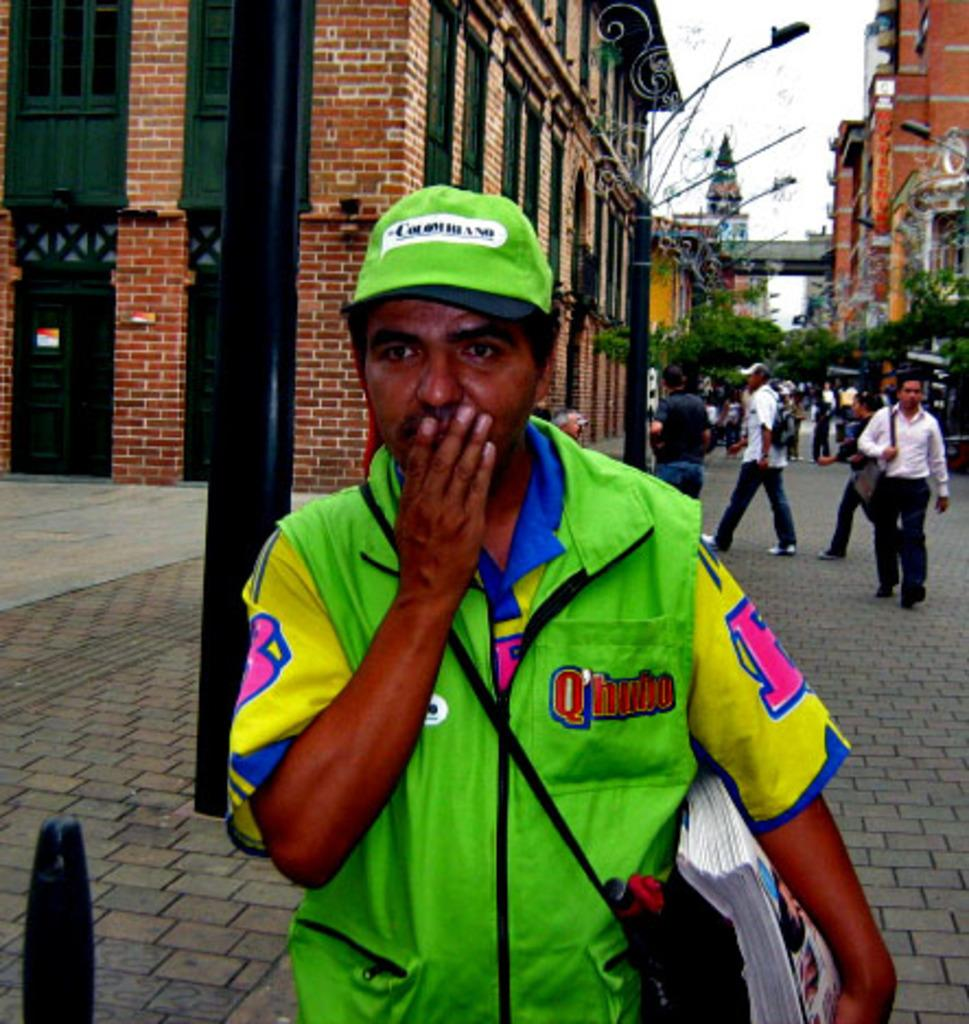Hat: (343, 181, 560, 330), (739, 362, 770, 376)
